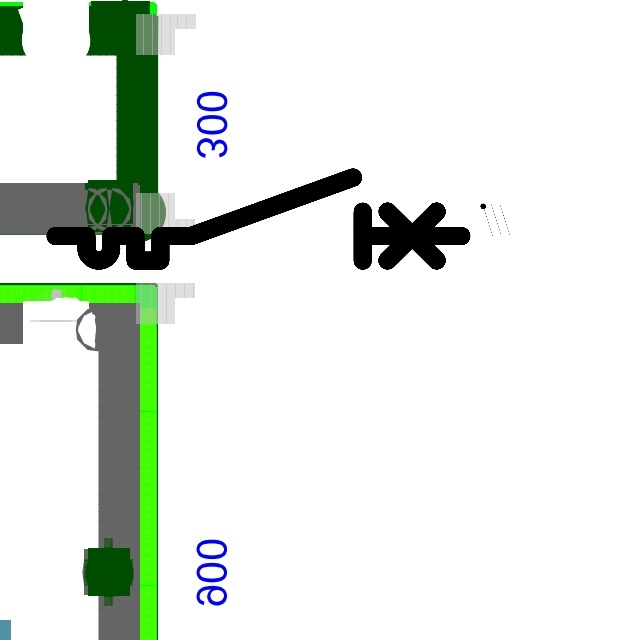interruptor_termomagnetico: (45, 167, 471, 271)
